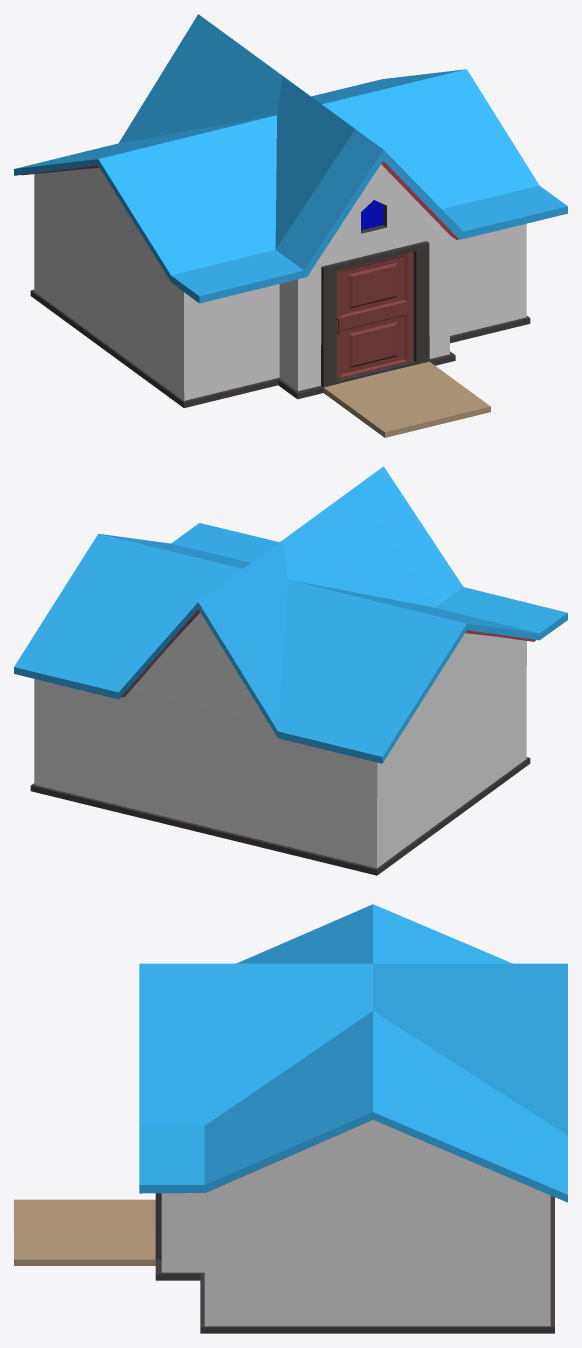
Rendered from house.fbx.
3 views of the same model, one above another, from view 1: azimuth 30°, elevation 25°; view 2: azimuth 150°, elevation 25°; view 3: azimuth 270°, elevation 25° (orthographic). The views are drawn at different scales.
Parts seen in each view (by area): view 1: Cube, Cube.001; view 2: Cube; view 3: Cube.
Part boxes in pixels (left/top/right/bottom): Cube: left=14, top=14, right=567, bottom=437; Cube.001: left=336, top=252, right=413, bottom=379; Cube: left=14, top=466, right=567, bottom=875; Cube: left=14, top=904, right=567, bottom=1333.
Bounding box in the file's own units: 6.95 × 4.25 × 7.83.
